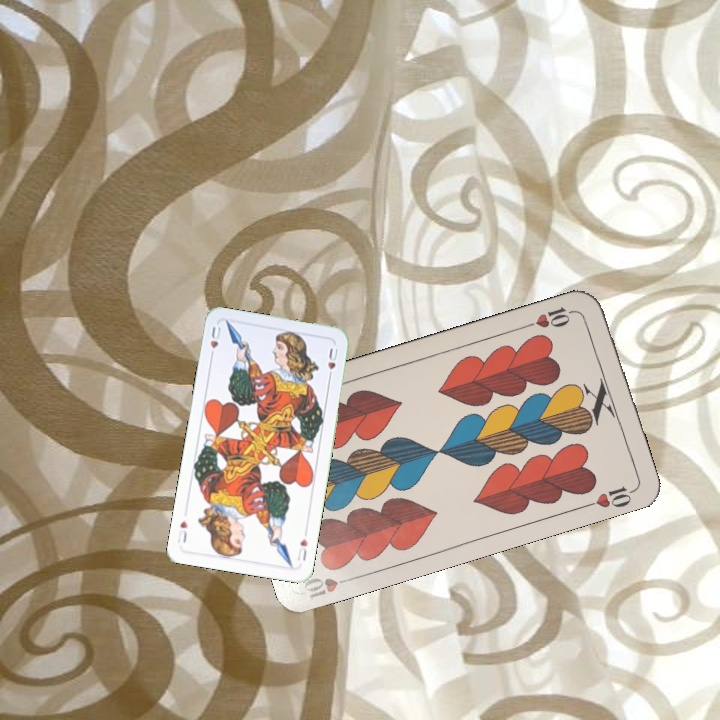H10: (298, 572, 359, 602), (522, 302, 580, 331)
HU: (206, 322, 223, 361), (293, 534, 310, 563)
